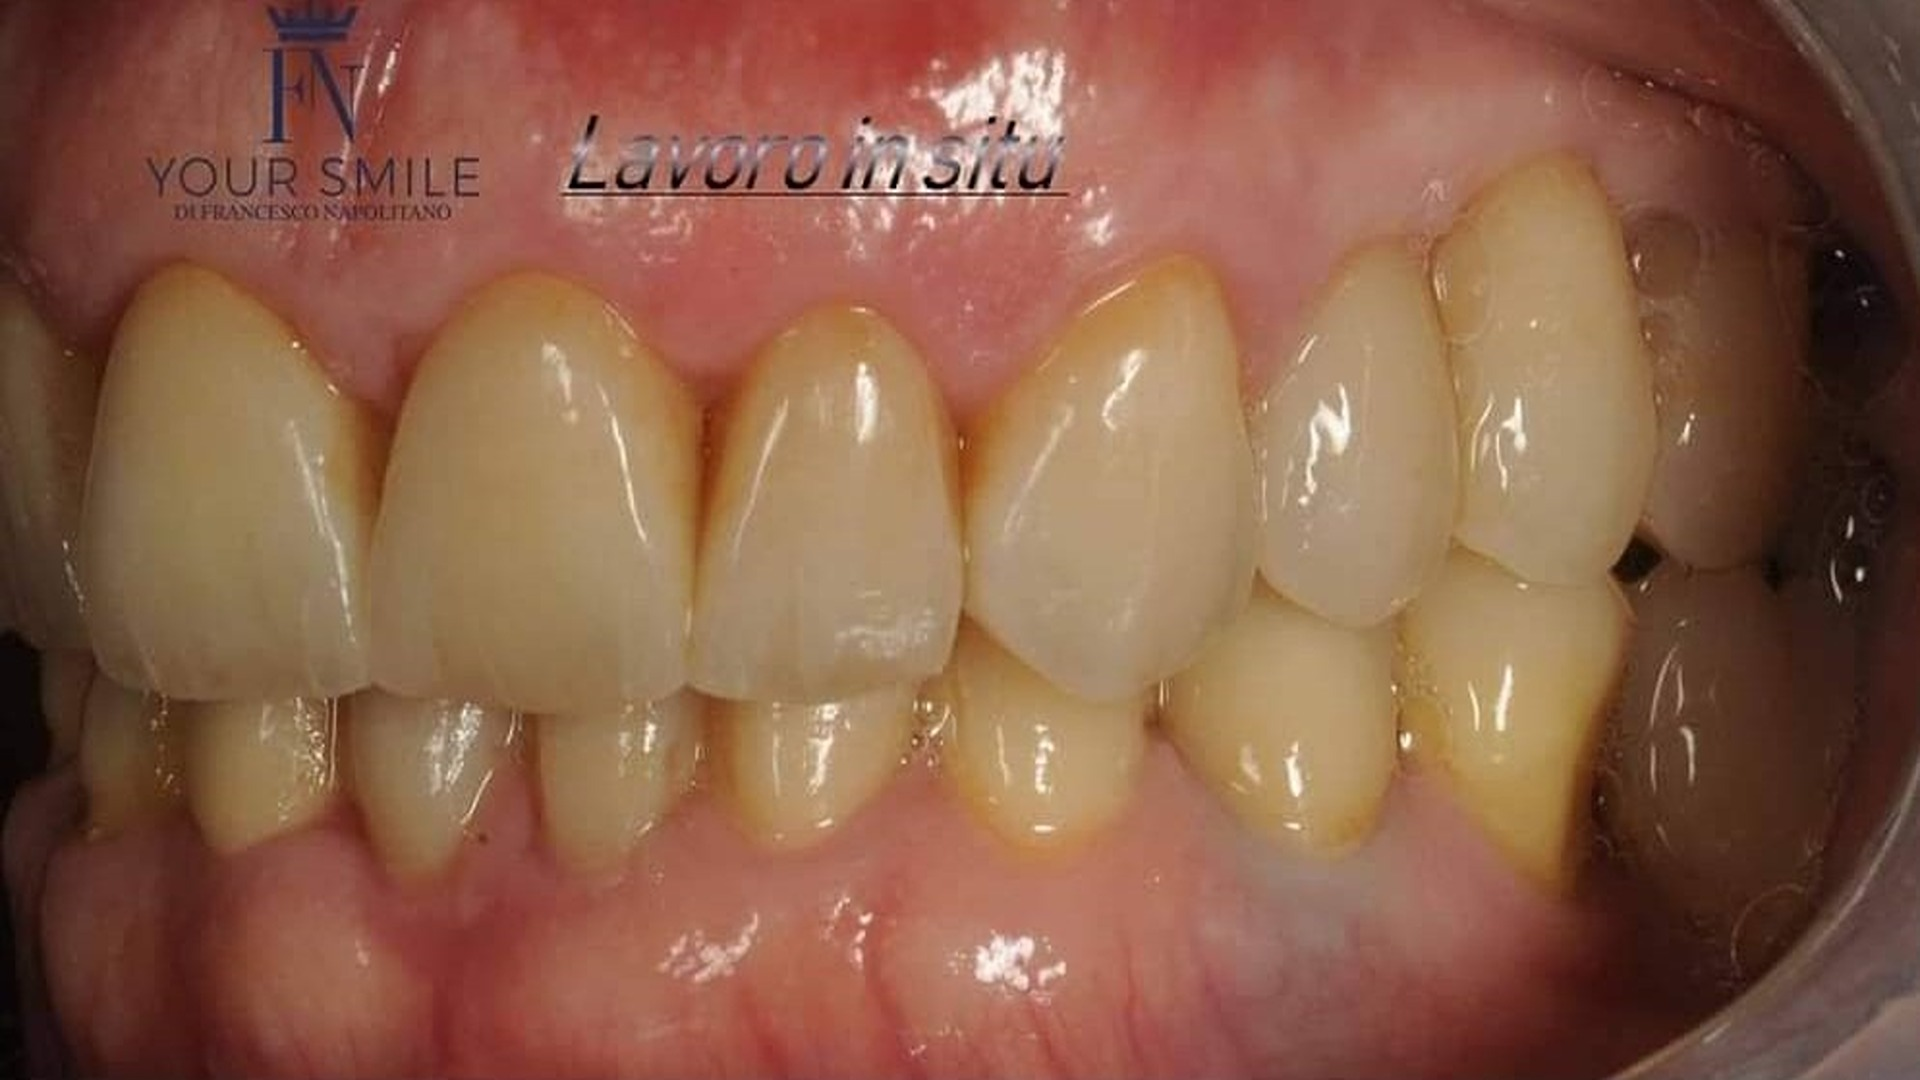tooth: (367, 272, 703, 716), (69, 261, 375, 702), (964, 253, 1259, 704), (690, 301, 965, 704), (1433, 150, 1658, 585), (1253, 236, 1458, 625), (1393, 545, 1631, 880), (1150, 572, 1402, 858), (918, 615, 1156, 852), (331, 686, 522, 876), (694, 684, 913, 849), (537, 686, 709, 877), (179, 698, 334, 853)
